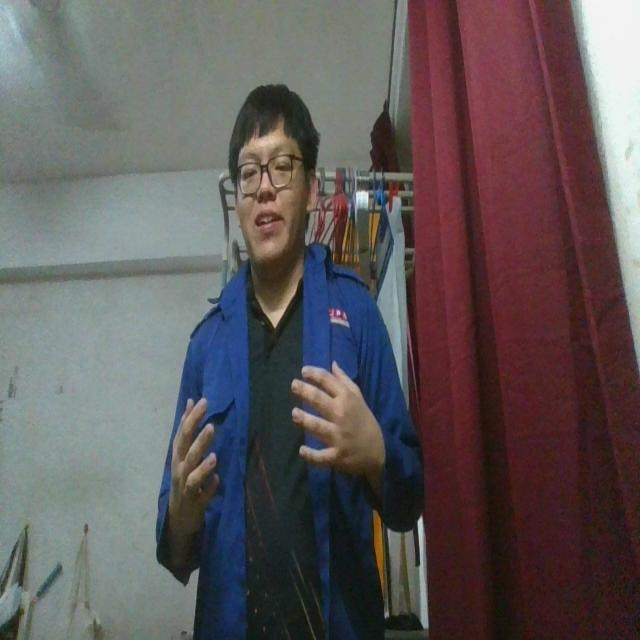person_with_labcoat: (157, 86, 423, 639)
